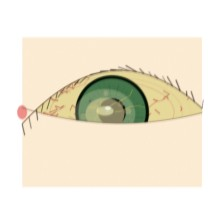corneal_ulcer: (73, 88, 137, 139)
